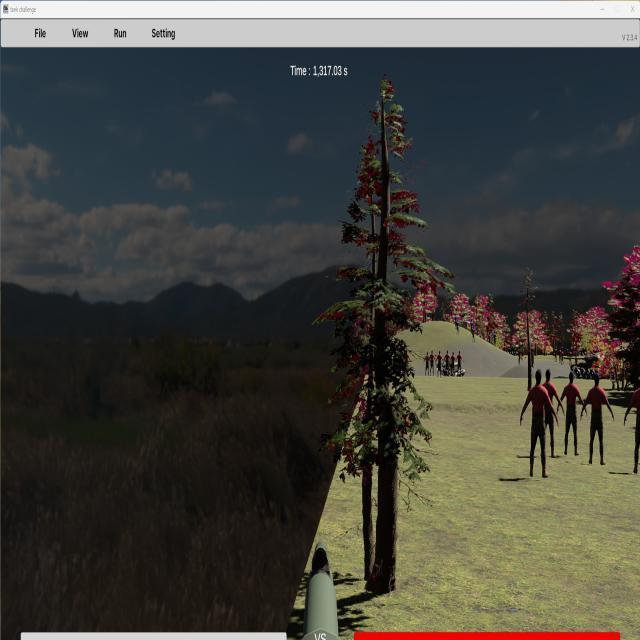Human: (520, 369, 558, 478), (580, 371, 614, 464), (534, 368, 564, 455), (558, 370, 586, 457), (625, 372, 640, 479)
